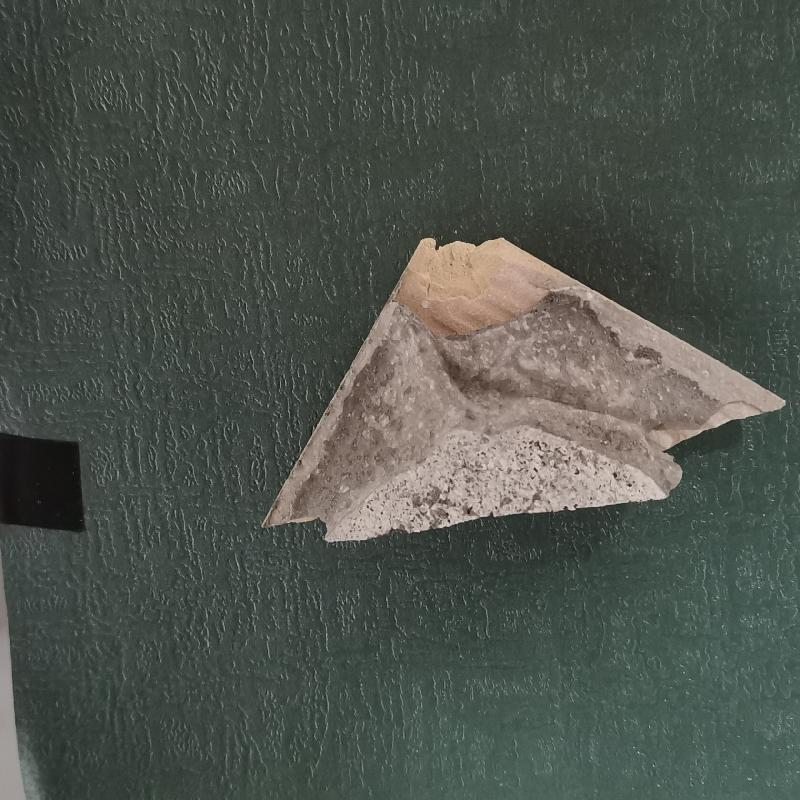tile: (245, 229, 793, 549)
